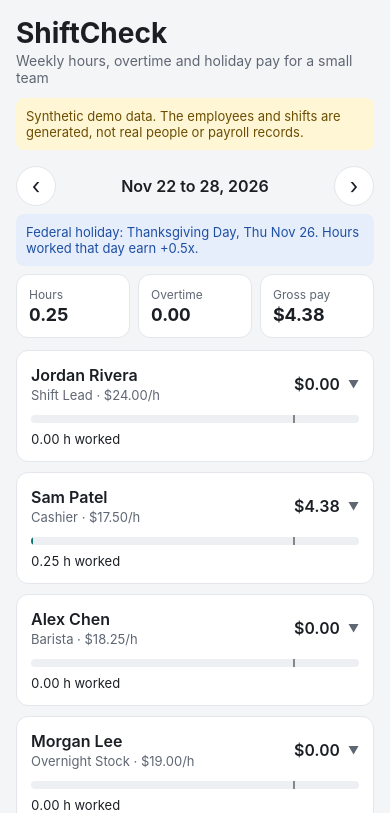
shows an inline error when an edit makes a shift invalid
The image size is (390, 813).
What coordinates should you click on to do the following:
click the button labelled "Sam Patel Cashier · $17.50/h $4.38 ▼"
I would click on:
 (69, 497)
Its box is [31,487,359,525].
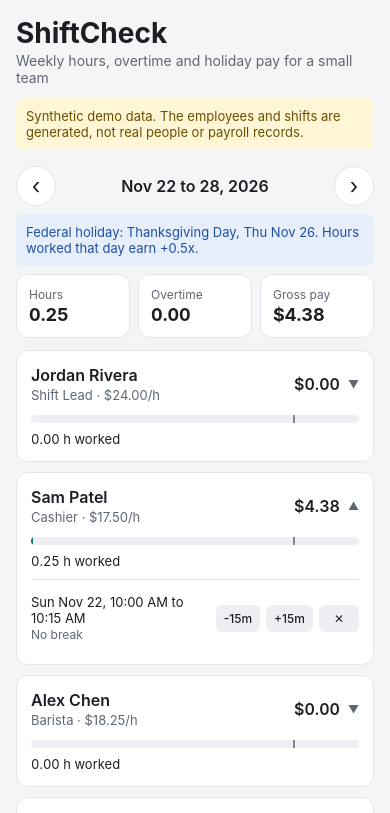
What coordinates should you click on to do the following:
click the button named "End shift 15 minutes earlier"
I would click on:
 (238, 618)
Its box is [216,604,260,632].
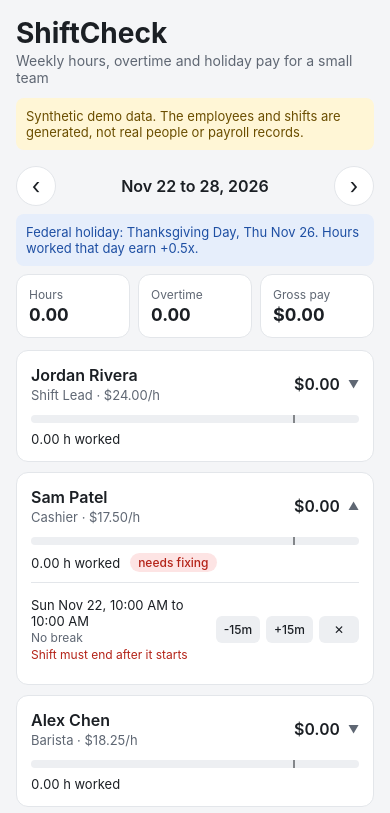
Expected: the text "Shift must end after it starts" is shown, [31,647,208,662]
Expected: the text "needs fixing" is shown, [130,553,216,572]
